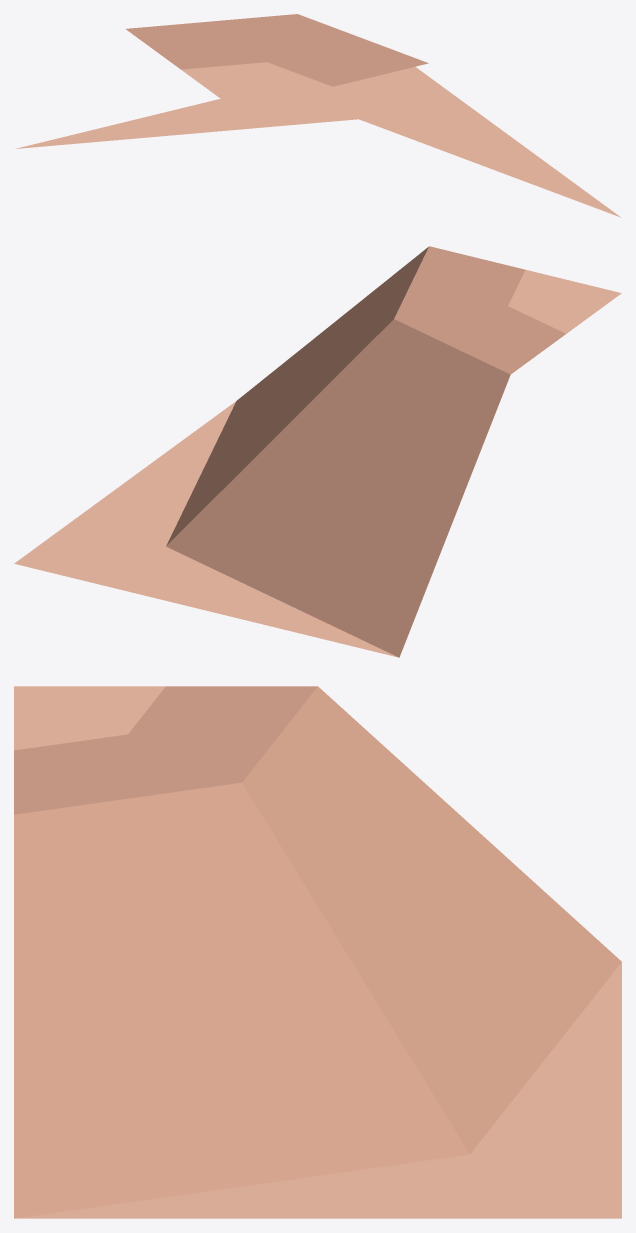
File: terrain_sidecorner.glb
The picture shows the model from 3 angles, top to bottom: view 1: azimuth 30°, elevation 25°; view 2: azimuth 150°, elevation 25°; view 3: azimuth 270°, elevation 25°; orthographic projection. The views are drawn at different scales.
Parts seen in each view (by area): view 1: terrain_sideCorner; view 2: terrain_sideCorner; view 3: terrain_sideCorner.
Boxes of the visible parts, x1,y1,x2,y2 form: terrain_sideCorner: [15, 14, 620, 217]; terrain_sideCorner: [14, 246, 621, 657]; terrain_sideCorner: [14, 686, 621, 1218].
Bounding box in the file's own units: 1 × 0.5 × 1.
